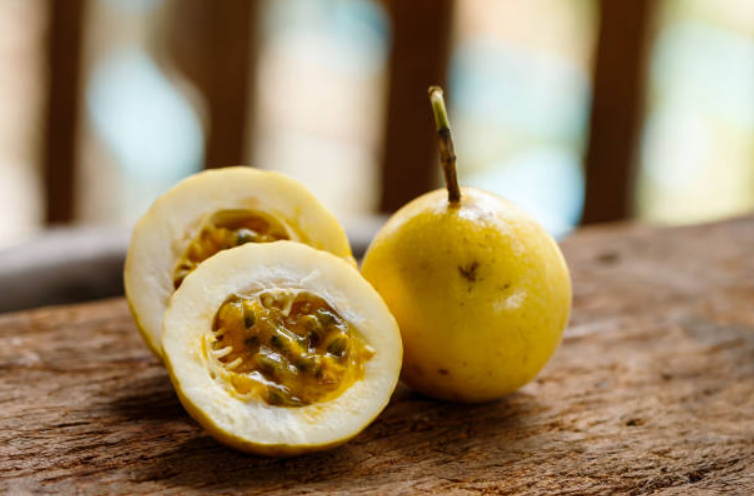maracuya: (358, 177, 574, 410)
